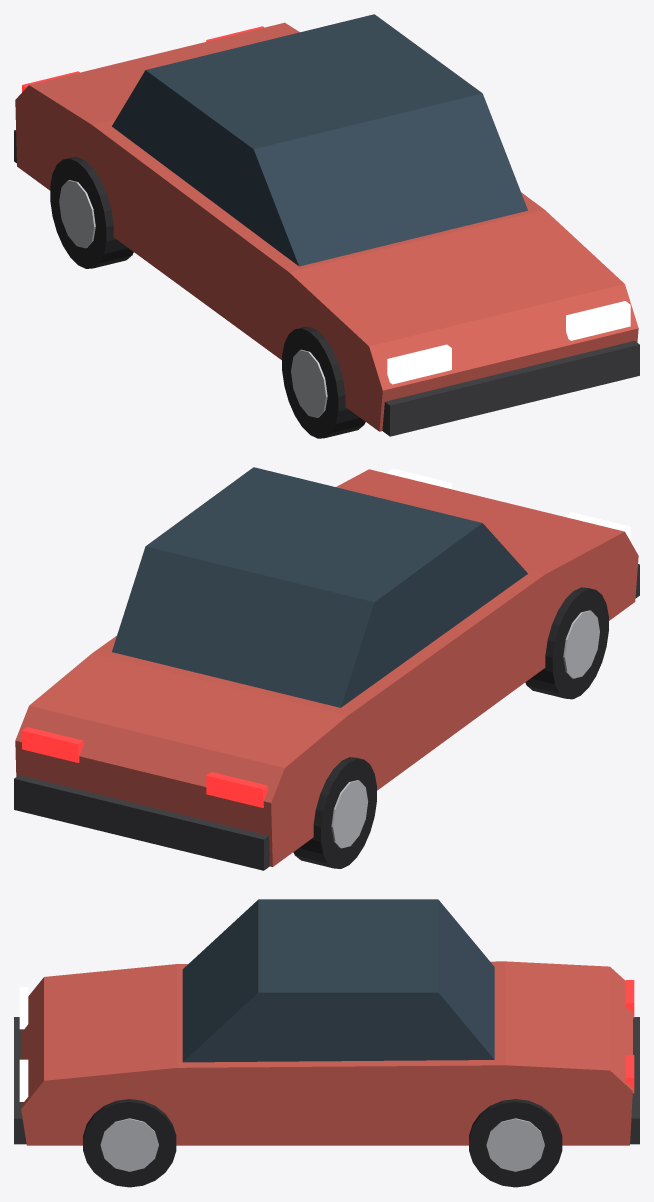
Rendered from placeholder_sedan.gltf.
3 renders of one model, top to bottom at view 1: azimuth 30°, elevation 25°; view 2: azimuth 150°, elevation 25°; view 3: azimuth 270°, elevation 25°, orthographic. The views are drawn at different scales.
Parts seen in each view (by area): view 1: Body, Cabin, Bumpers, Tire_RR, Tire_FR, Headlights, Rim_FR, Rim_RR; view 2: Body, Cabin, Bumpers, Tire_FR, Tire_RR, Taillights, Rim_FR, Rim_RR, Headlights; view 3: Body, Cabin, Tire_RL, Tire_FL, Rim_RL, Rim_FL, Bumpers, Headlights, Taillights.
Part boxes in pixels (<box>): Body: <box>15,22,638,431</box>; Cabin: <box>112,14,527,266</box>; Bumpers: <box>14,130,639,436</box>; Tire_RR: <box>50,157,133,268</box>; Tire_FR: <box>282,326,365,438</box>; Headlights: <box>387,301,630,384</box>; Rim_FR: <box>291,349,327,417</box>; Rim_RR: <box>59,180,95,248</box>; Body: <box>15,469,638,866</box>; Cabin: <box>112,467,527,707</box>; Bumpers: <box>14,564,639,870</box>; Tire_FR: <box>525,587,608,699</box>; Tire_RR: <box>293,757,376,868</box>; Taillights: <box>22,727,267,807</box>; Rim_FR: <box>563,610,599,678</box>; Rim_RR: <box>331,780,368,848</box>; Headlights: <box>387,468,630,540</box>; Body: <box>21,961,632,1145</box>; Cabin: <box>182,899,494,1062</box>; Tire_RL: <box>469,1099,562,1187</box>; Tire_FL: <box>83,1099,176,1187</box>; Rim_RL: <box>486,1118,544,1171</box>; Rim_FL: <box>100,1118,158,1171</box>; Bumpers: <box>14,1017,639,1144</box>; Headlights: <box>19,987,28,1101</box>; Taillights: <box>625,980,634,1093</box>.
Size of the model in its own units: 1.84 by 1.44 by 4.38.
